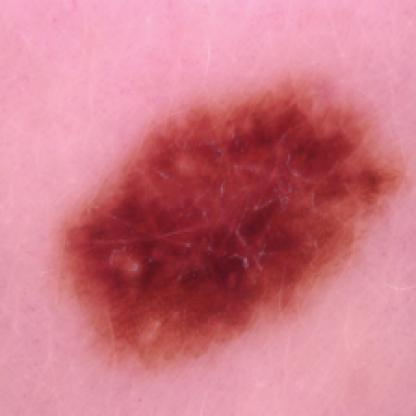benign: (63, 100, 372, 334)
